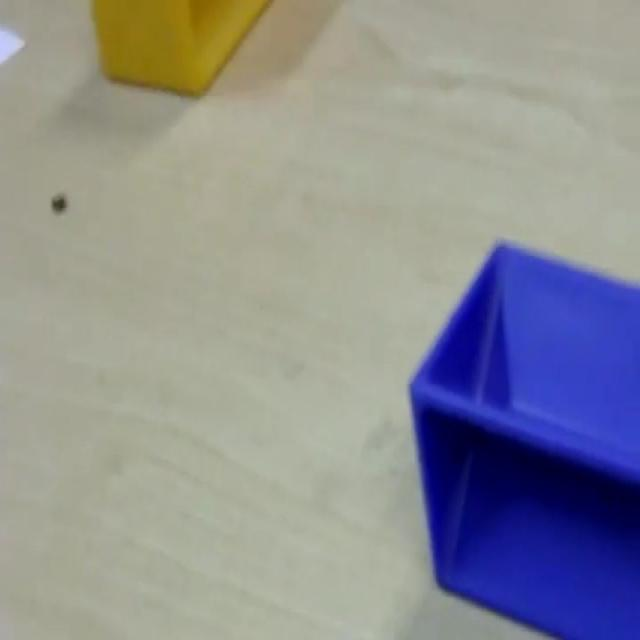blue_block: (408, 235, 638, 636)
yellow_block: (91, 0, 272, 96)
